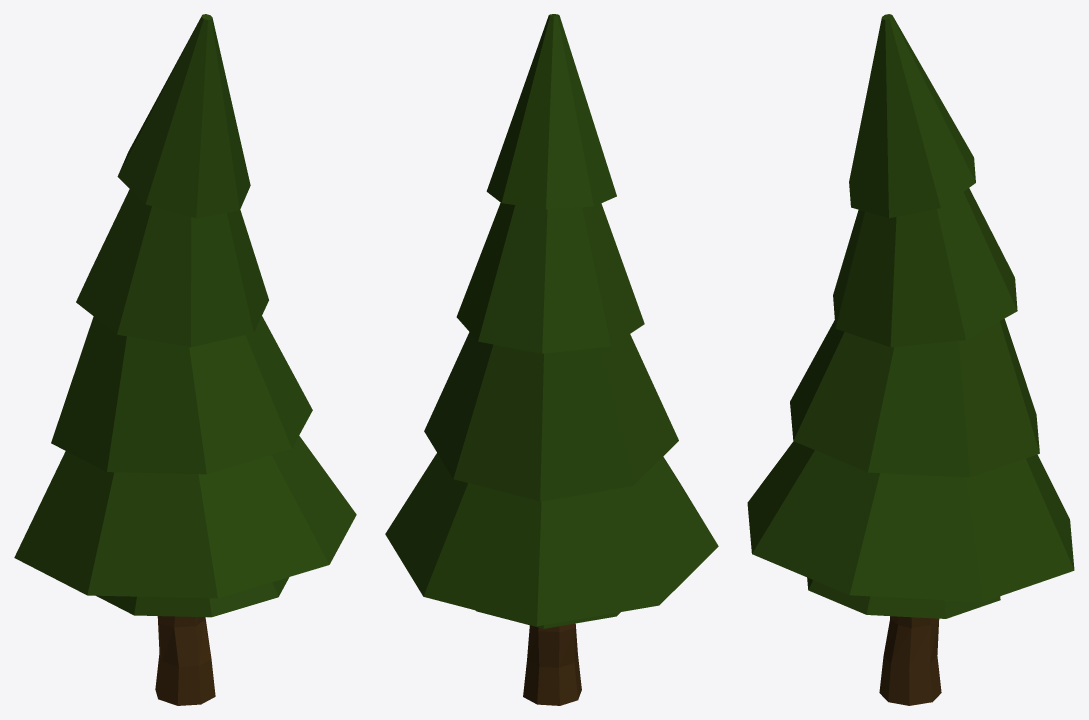
File: tree.glb
3 views of the same model, side by side, from view 1: azimuth 30°, elevation 25°; view 2: azimuth 150°, elevation 25°; view 3: azimuth 270°, elevation 25° (orthographic). The views are drawn at different scales.
Visible parts, largest first — view 1: pine leaves005_dark leaves_0, tree trunk005_dark tree trunk_0; view 2: pine leaves005_dark leaves_0, tree trunk005_dark tree trunk_0; view 3: pine leaves005_dark leaves_0, tree trunk005_dark tree trunk_0.
Part boxes in pixels (x1,y1,x2,y2): pine leaves005_dark leaves_0: [14, 14, 356, 617]; tree trunk005_dark tree trunk_0: [155, 616, 215, 705]; pine leaves005_dark leaves_0: [385, 14, 718, 628]; tree trunk005_dark tree trunk_0: [523, 623, 581, 705]; pine leaves005_dark leaves_0: [747, 14, 1074, 618]; tree trunk005_dark tree trunk_0: [879, 616, 941, 705].
Size of the model in its own units: 1.94 by 4.5 by 1.96.
